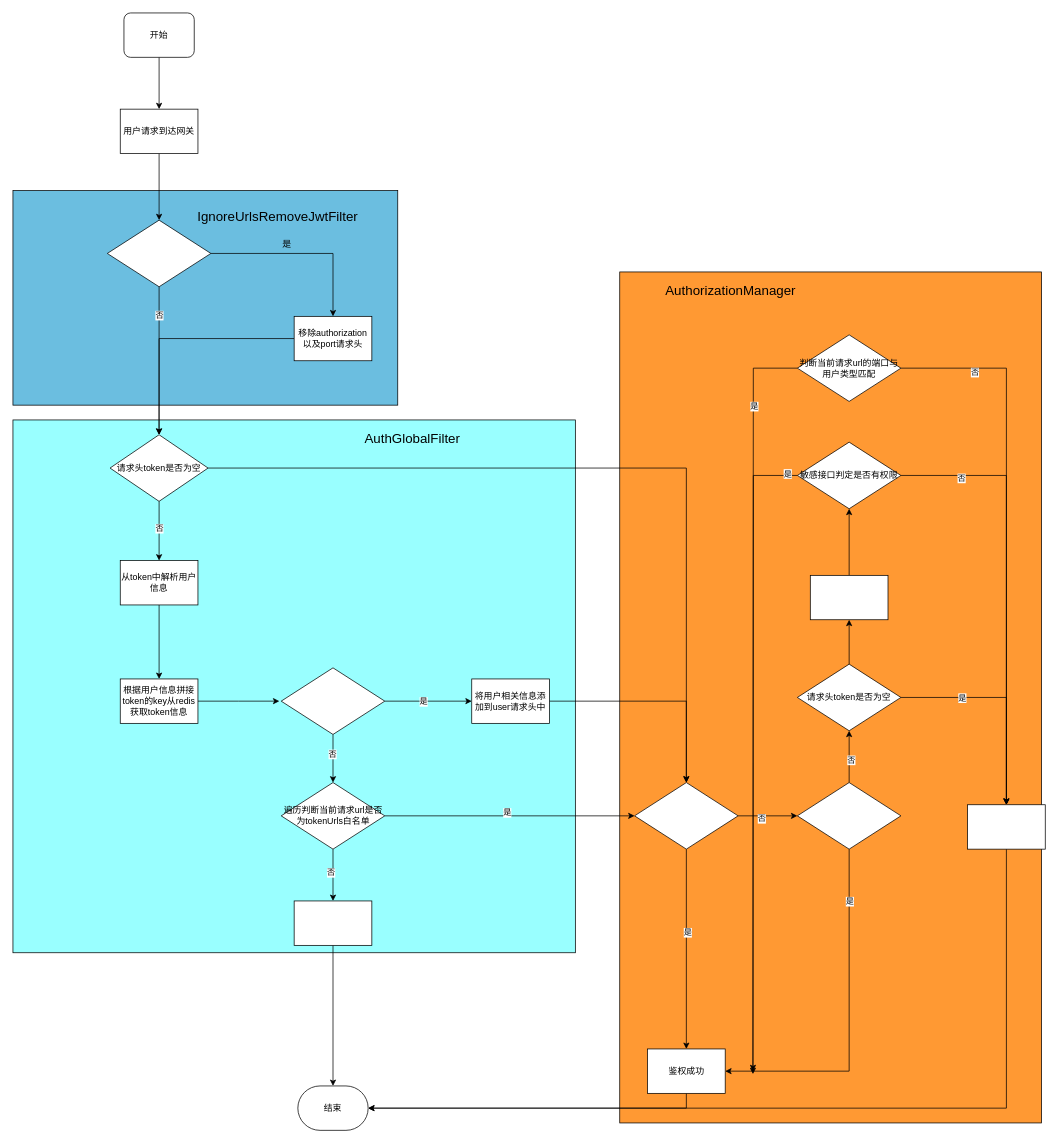
Image size: 1058x1143. Some labels were removed from this diagram. Here are the shapes that lost their labels. From the top down, the centre of each, then its label:
At point (159, 253): "遍历判断当前请求url是否为NoTokenUrls白名单".
At point (849, 597): "从user请求头获取用户类型".
At point (332, 700): "比较redis中Token与请求头带的token是否一致".
At point (686, 815): "判断是否为option请求".
At point (849, 815): "遍历判断当前请求url是否为白名单".
At point (1006, 826): "鉴权失败".
At point (332, 922): "返回token失效异常".
